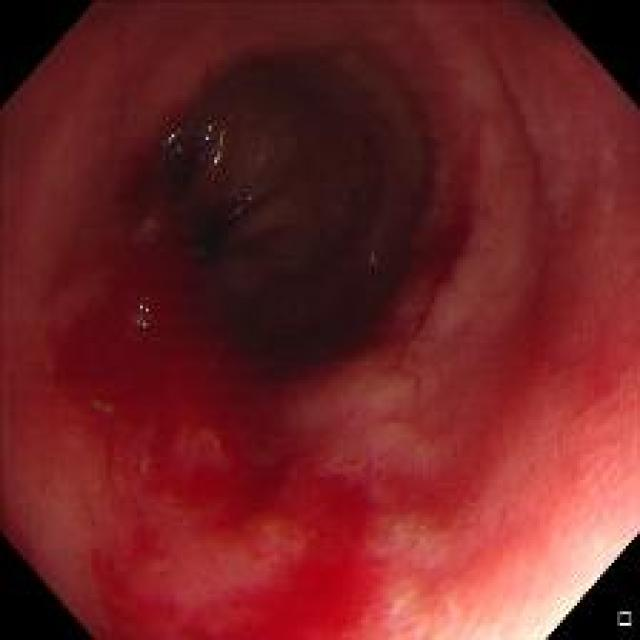color misalignment: (158, 112, 231, 179), (121, 291, 156, 344), (225, 191, 256, 221), (358, 248, 385, 278)
contrast: (155, 50, 485, 401)
saturation: (486, 495, 628, 631)
